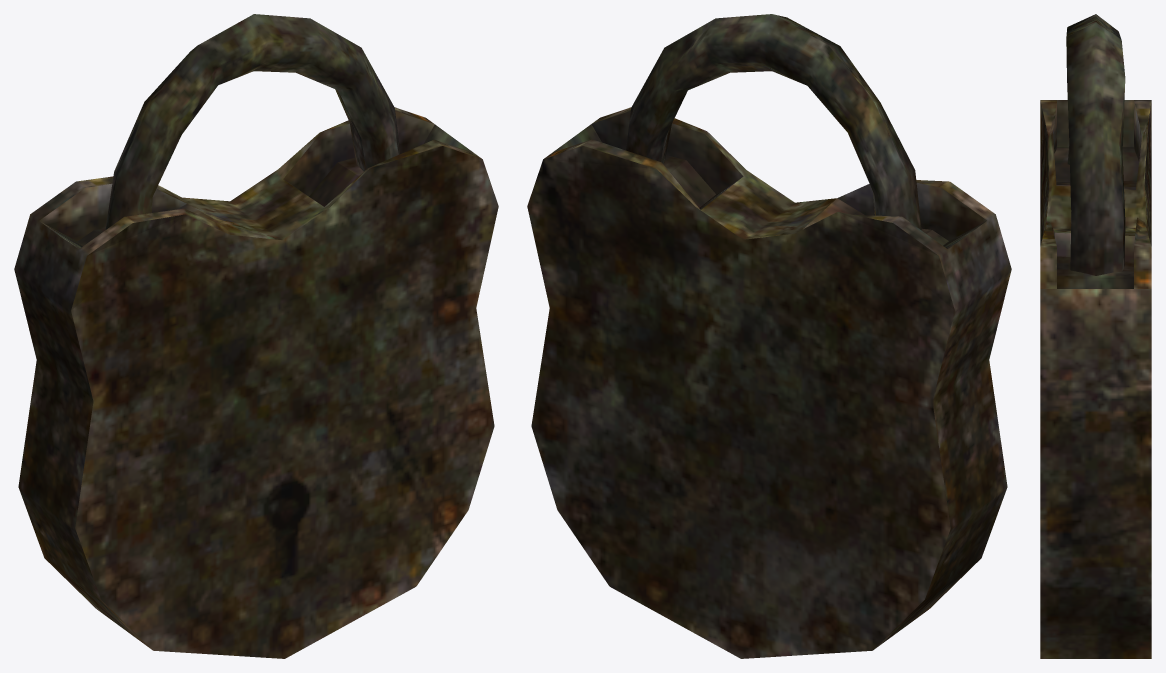
The model's file is padlock_acid.dae.
3 views of the same model, side by side, from view 1: azimuth 30°, elevation 25°; view 2: azimuth 150°, elevation 25°; view 3: azimuth 270°, elevation 25° (orthographic). The views are drawn at different scales.
Parts seen in each view (by area): view 1: polySurface1; view 2: polySurface1; view 3: polySurface1.
Part boxes in pixels (x1,y1,x2,y2): polySurface1: [14, 14, 498, 658]; polySurface1: [527, 14, 1011, 658]; polySurface1: [1040, 14, 1151, 658].
Bounding box in the file's own units: 0.2758 × 0.3851 × 0.0634.
